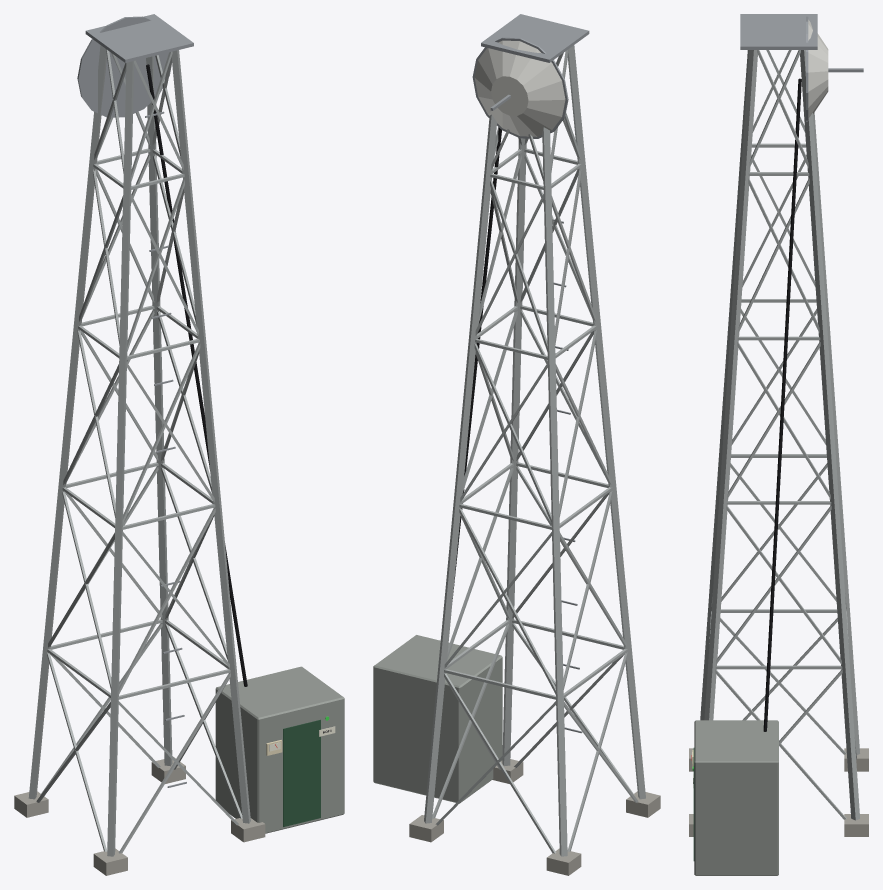
Rendered from site.microwave-tower.glb.
The picture shows the model from 3 angles, left to right: view 1: azimuth 30°, elevation 25°; view 2: azimuth 150°, elevation 25°; view 3: azimuth 270°, elevation 25°; orthographic projection. The views are drawn at different scales.
Parts seen in each view (by area): view 1: hut, leg-1-1, leg1-1, leg-11, leg11, hut-door, dish-rim, platform, feeder, x00a, x10a, x03b (+11 smaller); view 2: hut, dish-bowl, leg-11, leg11, leg-1-1, leg1-1, platform, feeder, x02b, x12b, x01b, x03a (+12 smaller); view 3: hut, leg11, leg1-1, platform, feeder, leg-11, leg-1-1, dish-bowl, x11b, x11a, x21b, x21a (+18 smaller).
Boxes of the visible parts, x1,y1,x2,y2 form: hut: (215,666,344,833); leg-1-1: (107,61,134,856); leg1-1: (171,50,250,823); leg-11: (28,45,106,799); leg11: (146,56,172,766); hut-door: (283,719,320,826); dish-rim: (77,16,171,117); platform: (85,14,193,62); feeder: (146,64,247,686); x00a: (118,673,230,853); x10a: (118,508,215,694); x03b: (47,652,107,851); hut: (373,635,502,803); dish-bowl: (474,40,565,136); leg-11: (542,127,567,856); leg11: (424,114,496,823); leg-1-1: (568,45,645,799); leg1-1: (502,138,526,766); platform: (481,14,589,62); feeder: (452,127,501,598); x02b: (444,673,556,853); x12b: (459,508,556,694); x01b: (432,624,509,818); x03a: (567,652,627,851); hut: (694,720,778,875); leg11: (800,50,859,820); leg1-1: (704,50,757,720); platform: (740,14,817,49); feeder: (763,78,801,731); leg-11: (813,112,860,754); leg-1-1: (700,50,749,720); dish-bowl: (808,19,828,118); x11b: (726,506,841,664); x11a: (716,506,831,664); x21b: (737,342,830,499); x21a: (727,342,820,499).
Bounding box in the file's own units: 3.87 × 12.17 × 2.55.
